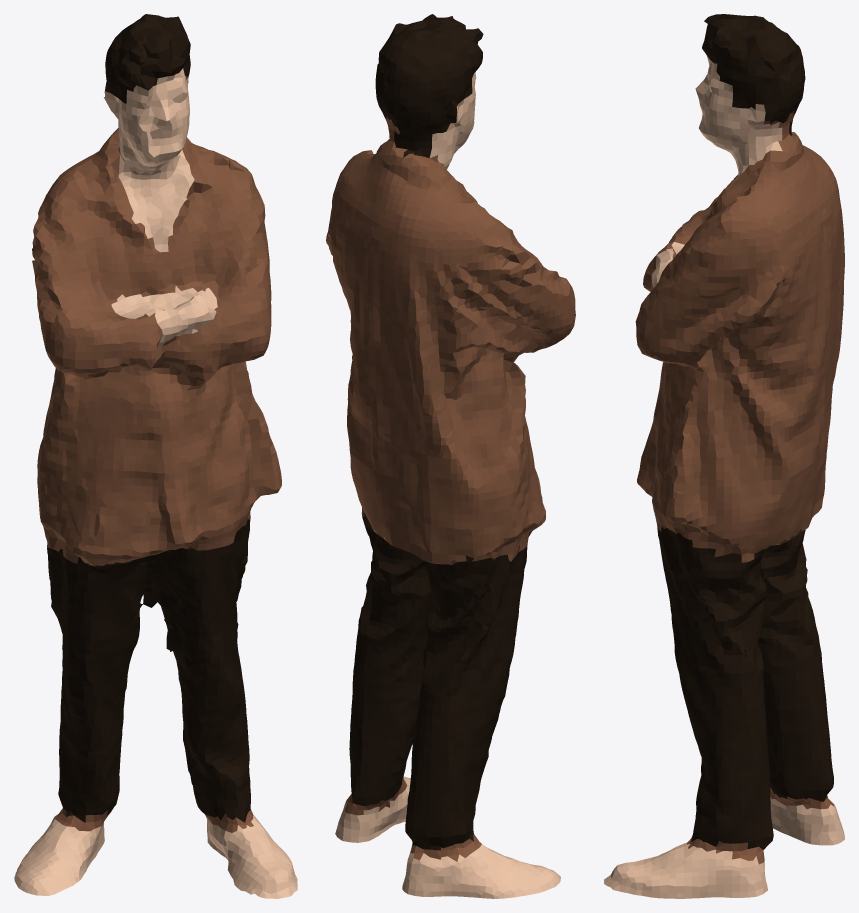
File: antoine5.glb
3 renders of one model, left to right at view 1: azimuth 30°, elevation 25°; view 2: azimuth 150°, elevation 25°; view 3: azimuth 270°, elevation 25°, orthographic.
Visible parts, largest first — view 1: Model; view 2: Model; view 3: Model.
Boxes of the visible parts, x1,y1,x2,y2 form: Model: [14, 14, 297, 898]; Model: [326, 14, 575, 898]; Model: [604, 14, 844, 898].
Bounding box in the file's own units: 0.4943 × 1.72 × 0.4502.
